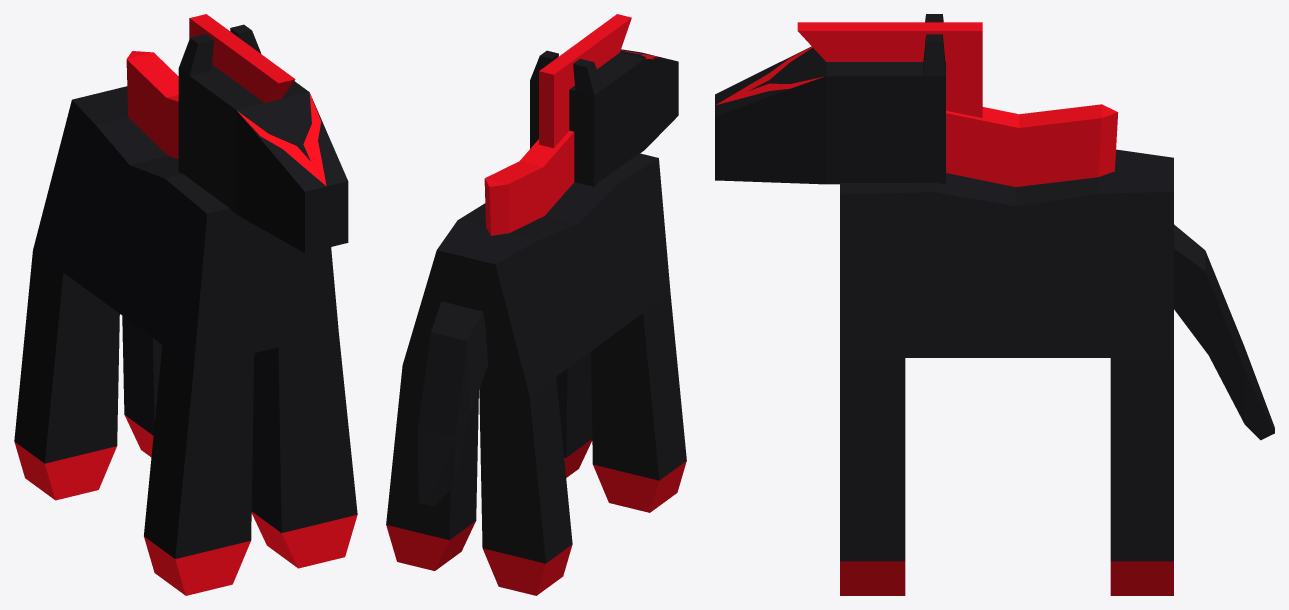
File: sukaRozoviPoni.fbx
3 views of the same model, side by side, from view 1: azimuth 30°, elevation 25°; view 2: azimuth 150°, elevation 25°; view 3: azimuth 270°, elevation 25° (orthographic). The views are drawn at different scales.
Visible parts, largest first — view 1: sukaRozowiPoni; view 2: sukaRozowiPoni; view 3: sukaRozowiPoni.
Part boxes in pixels (bbox=[...]): sukaRozowiPoni: bbox=[14, 14, 357, 595]; sukaRozowiPoni: bbox=[386, 14, 686, 595]; sukaRozowiPoni: bbox=[715, 14, 1274, 595].
Size of the model in its own units: 86.14 by 230 by 220.
